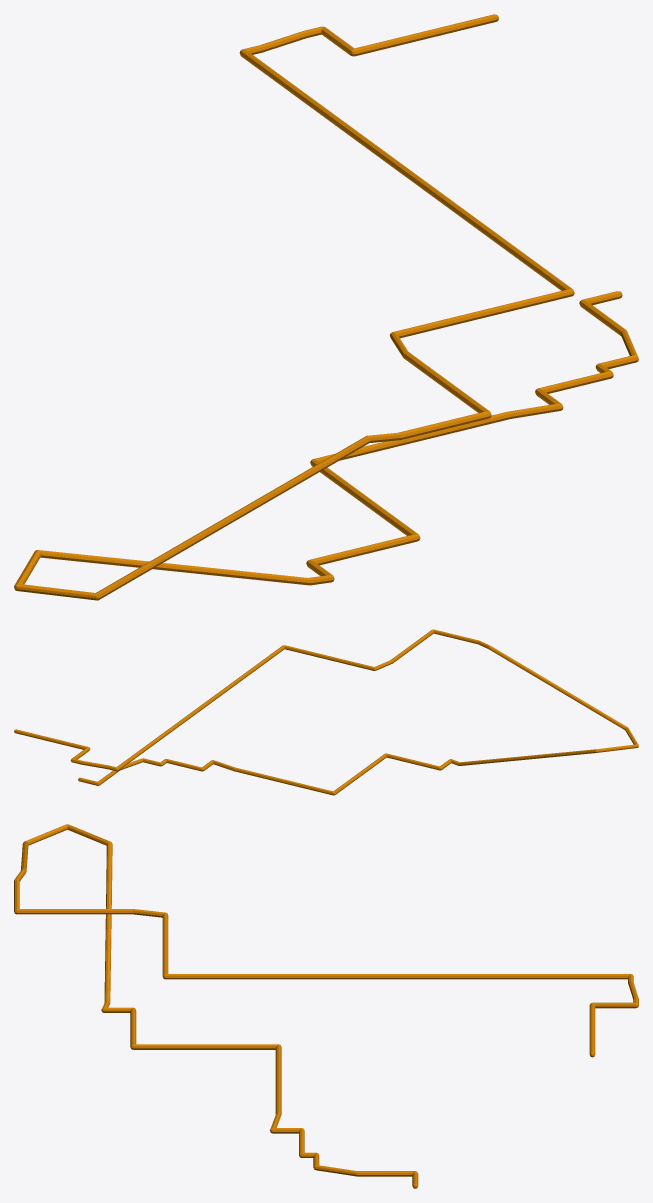
3 views of the same model, one above another, from view 1: azimuth 30°, elevation 25°; view 2: azimuth 150°, elevation 25°; view 3: azimuth 270°, elevation 25° (orthographic). The views are drawn at different scales.
Size of the model in its own units: 2409 by 520 by 2149.
